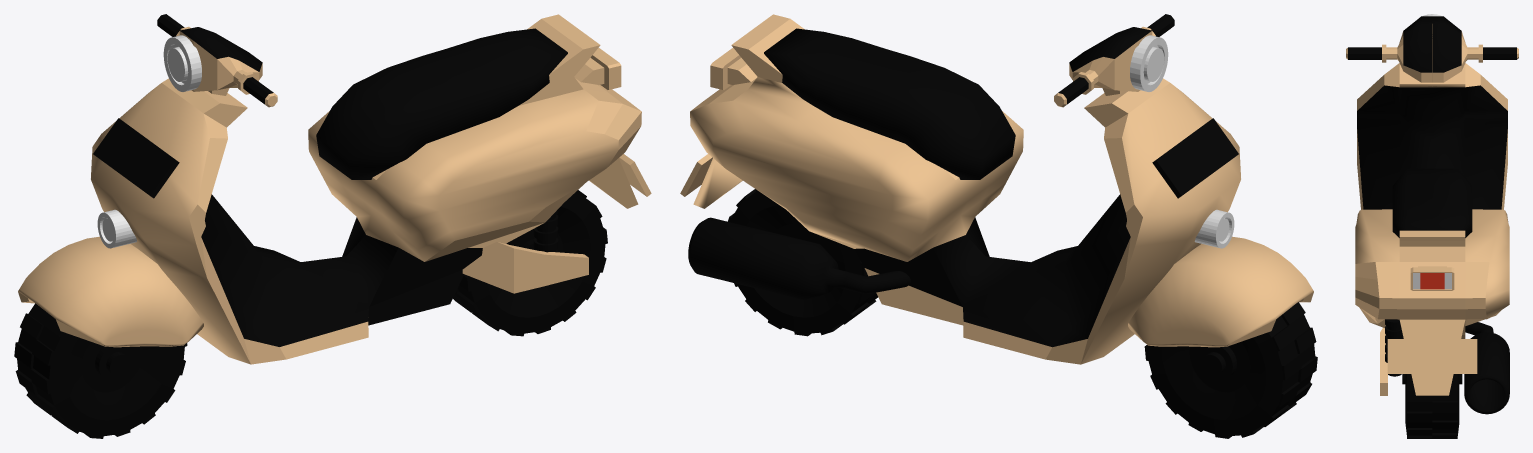
File: sepeda motor.fbx
3 views of the same model, side by side, from view 1: azimuth 30°, elevation 25°; view 2: azimuth 150°, elevation 25°; view 3: azimuth 270°, elevation 25° (orthographic). The views are drawn at different scales.
Parts seen in each view (by area): view 1: Plane.009; view 2: Plane.009; view 3: Plane.009.
Boxes of the visible parts, <box> form: Plane.009: <box>14,14,651,438</box>; Plane.009: <box>680,14,1317,438</box>; Plane.009: <box>1346,14,1518,438</box>.
Size of the model in its own units: 406 by 239 by 130.
